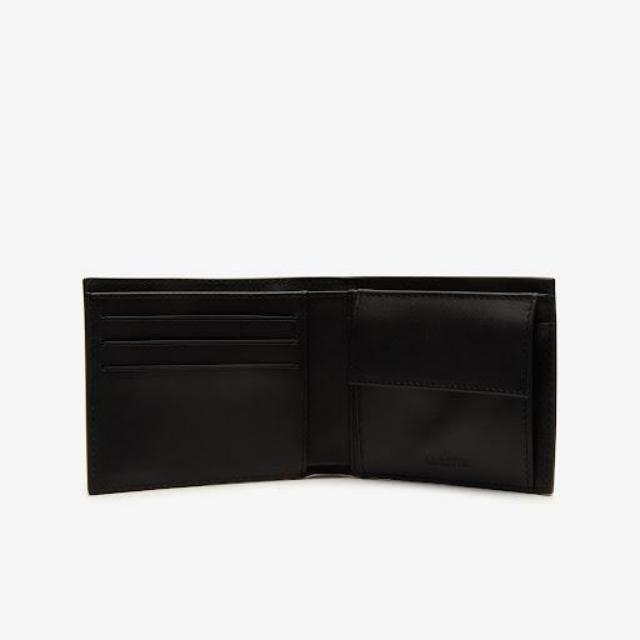Wallet: (77, 270, 559, 500)
